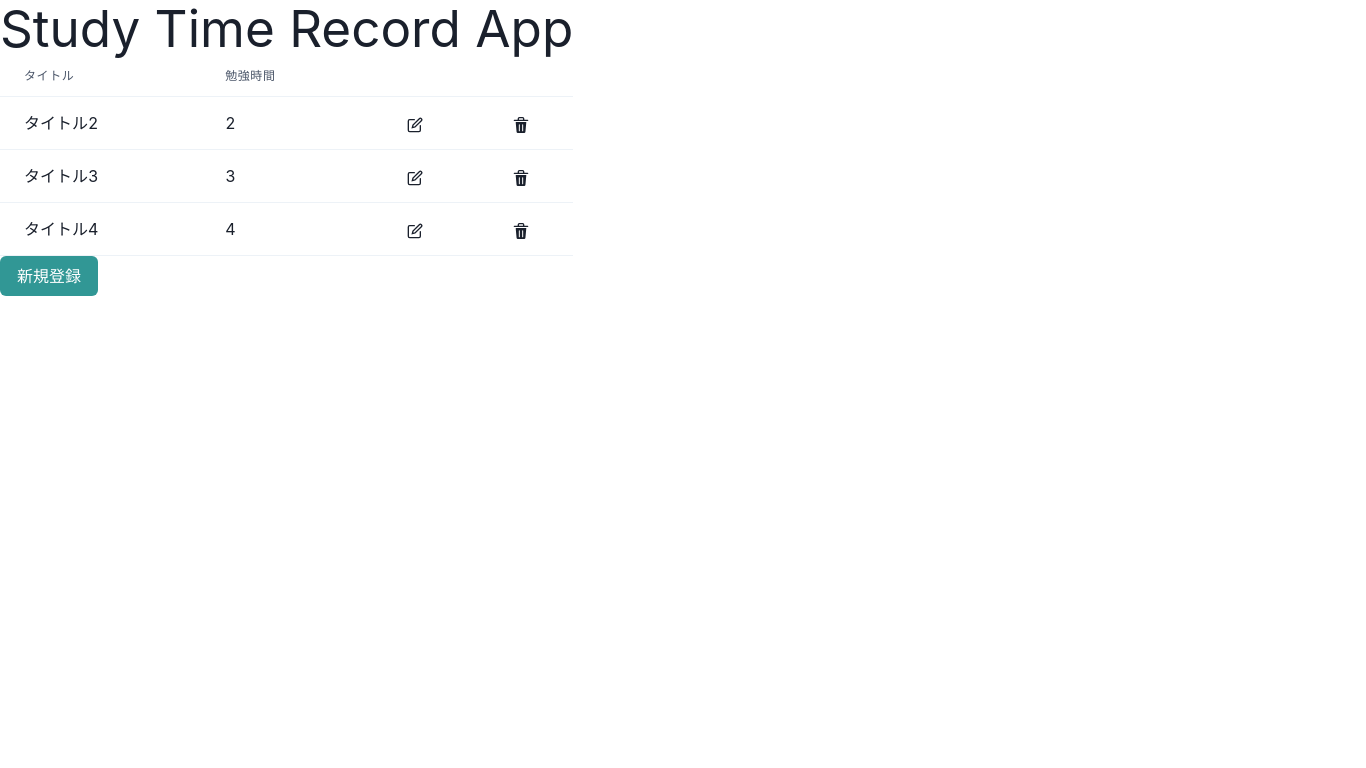
it: FormModal › クリックでモーダルが表示される
The width and height of the screenshot is (1366, 768).
Expected: the heading "Study Time Record App" is shown, [0, 0, 573, 56]
Click the button with test id "createButton" at (49, 276), box [0, 256, 98, 296]
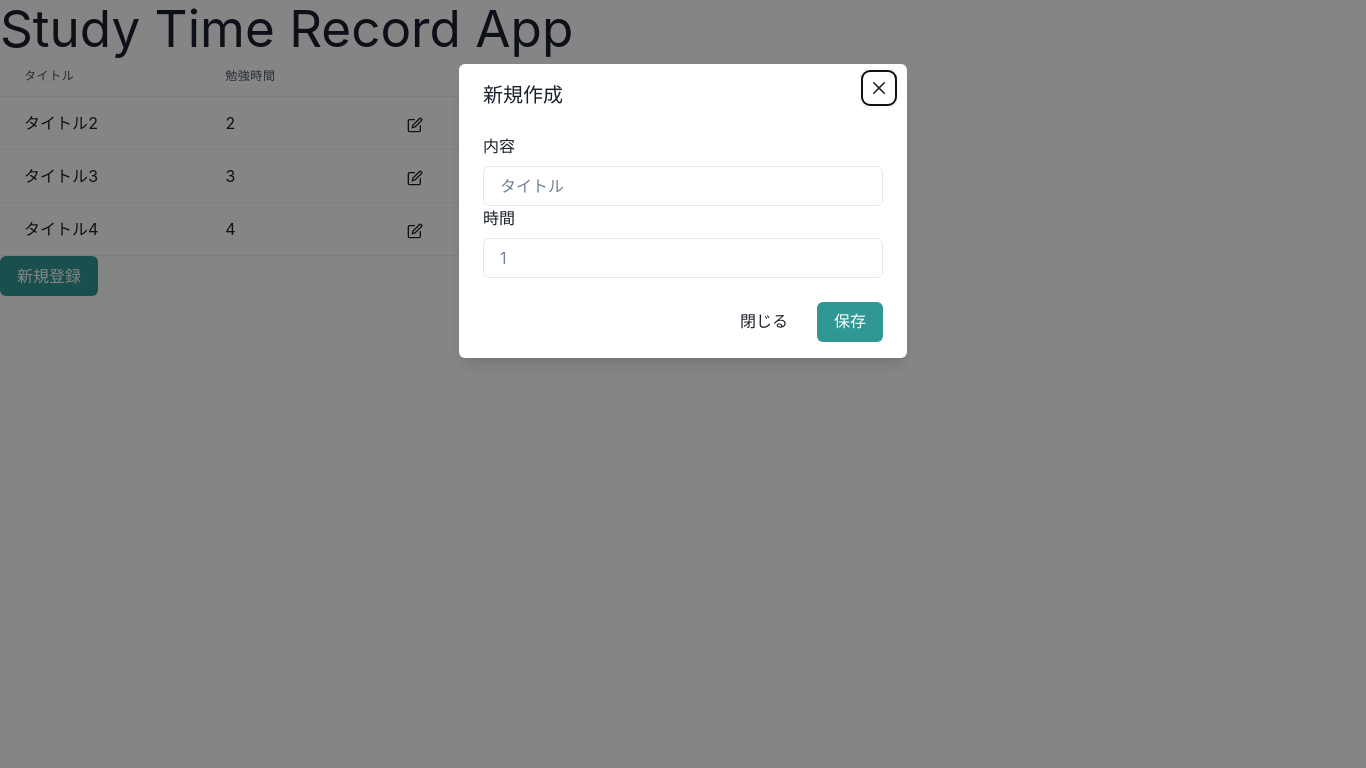
Now the header with test id "formModal-title" reads "新規作成", box [483, 83, 563, 107]
